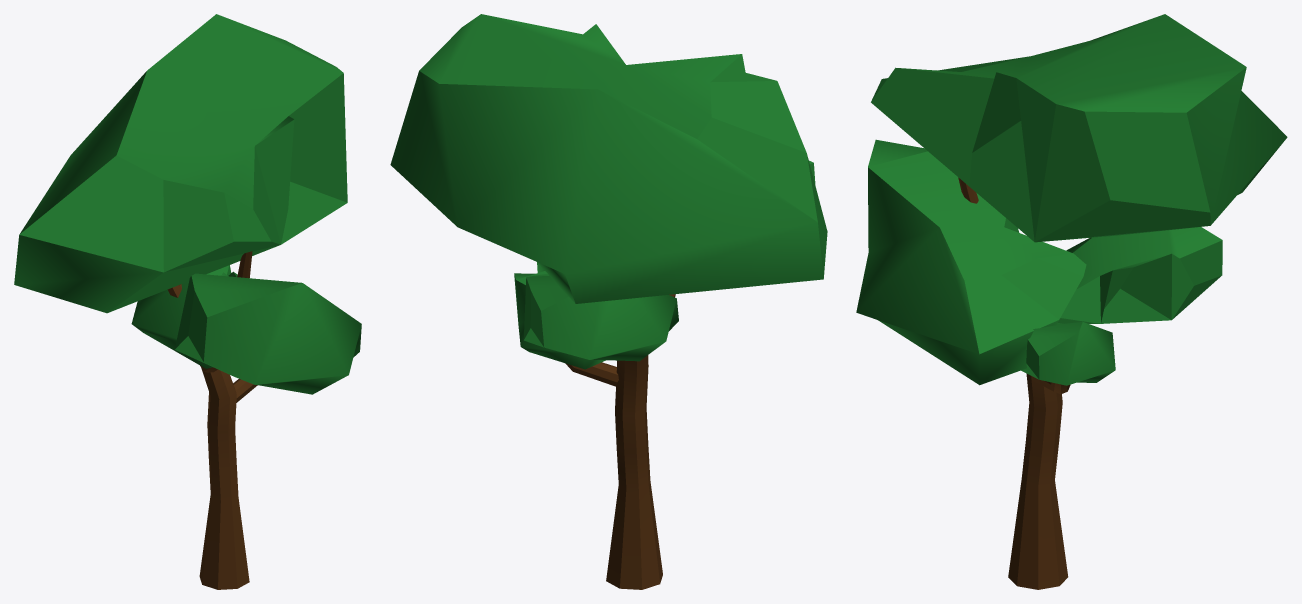
The model's file is Tree5.fbx.
3 renders of one model, left to right at view 1: azimuth 30°, elevation 25°; view 2: azimuth 150°, elevation 25°; view 3: azimuth 270°, elevation 25°, orthographic. The views are drawn at different scales.
Visible parts, largest first — view 1: TreeLight1; view 2: TreeLight1; view 3: TreeLight1.
Boxes of the visible parts, <box> form: TreeLight1: <box>14,14,361,589</box>; TreeLight1: <box>390,14,827,589</box>; TreeLight1: <box>856,14,1287,589</box>.
Bounding box in the file's own units: 3.74 × 5.11 × 3.59.
